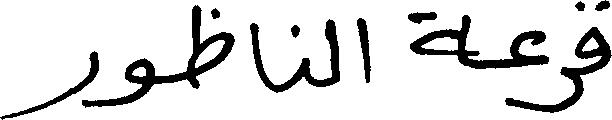X: (0, 46, 98, 119), (188, 0, 233, 93), (409, 7, 466, 70), (578, 0, 611, 104), (512, 25, 546, 116), (562, 0, 576, 114), (250, 18, 270, 94), (125, 53, 152, 108), (325, 14, 339, 91), (357, 13, 370, 87), (300, 53, 311, 89)
